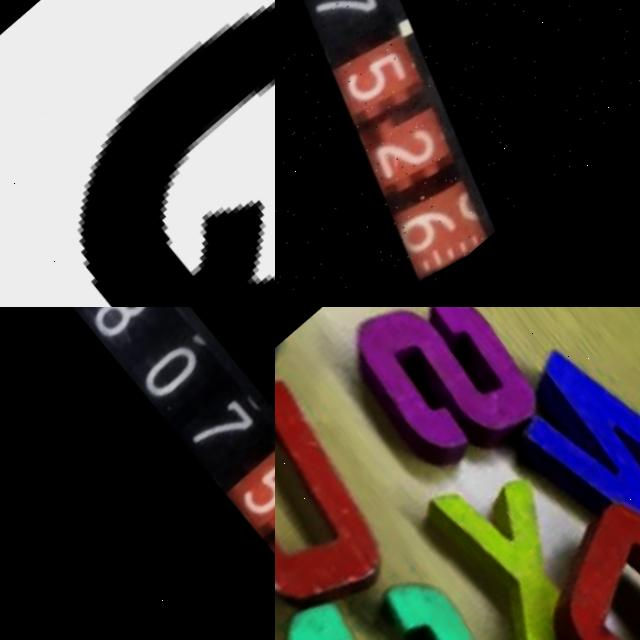0: (138, 339, 210, 412)
2: (366, 110, 456, 203)
5: (335, 37, 425, 129), (237, 457, 275, 531)
6: (390, 191, 474, 277)
7: (187, 395, 262, 471), (303, 0, 394, 54)
8: (85, 307, 158, 351)
O: (517, 479, 640, 640)
Q: (0, 0, 275, 307)
U: (275, 336, 436, 640)
